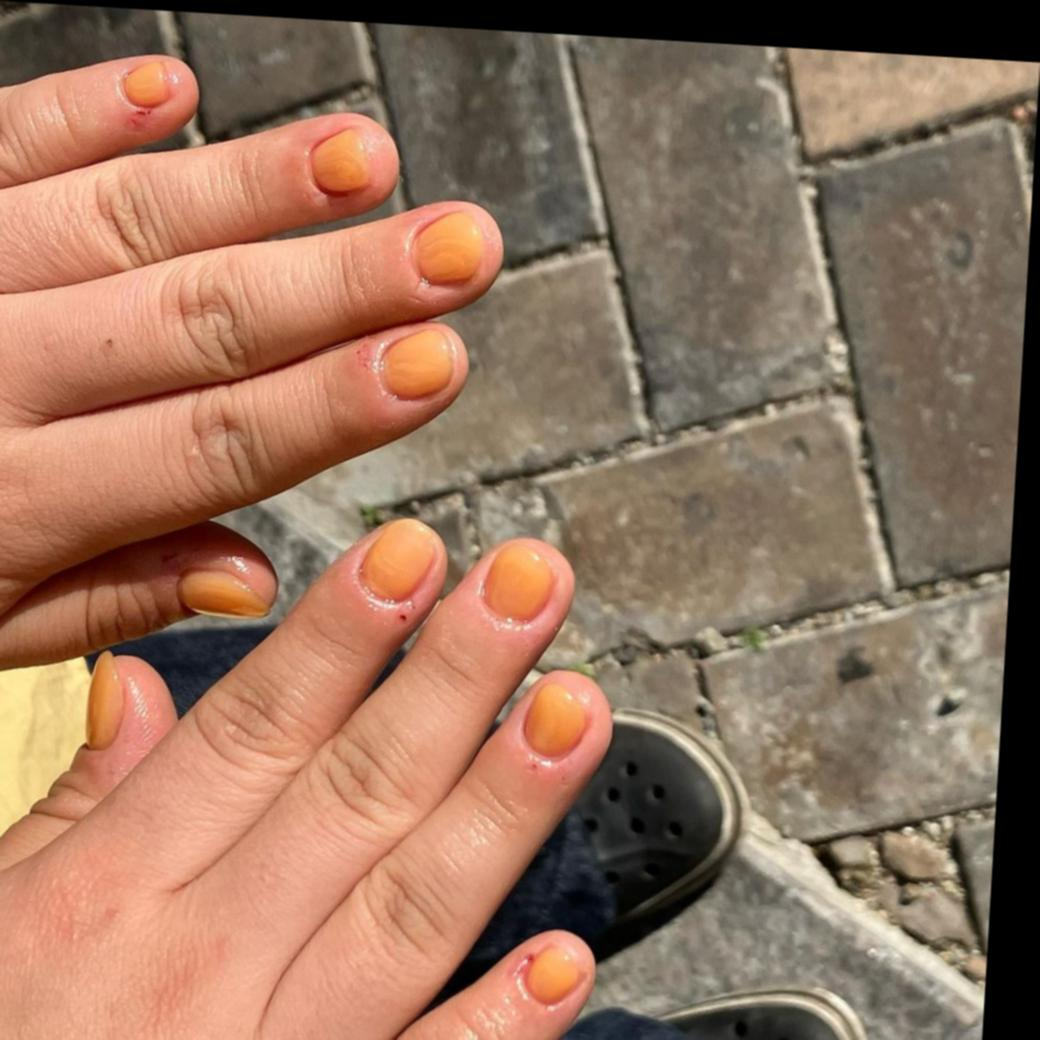nail: (355, 514, 442, 607), (375, 322, 461, 404), (407, 207, 489, 292), (477, 541, 558, 627), (519, 680, 592, 763), (173, 566, 272, 621), (305, 126, 375, 200), (82, 647, 127, 753), (519, 941, 586, 1010), (117, 58, 177, 112)
